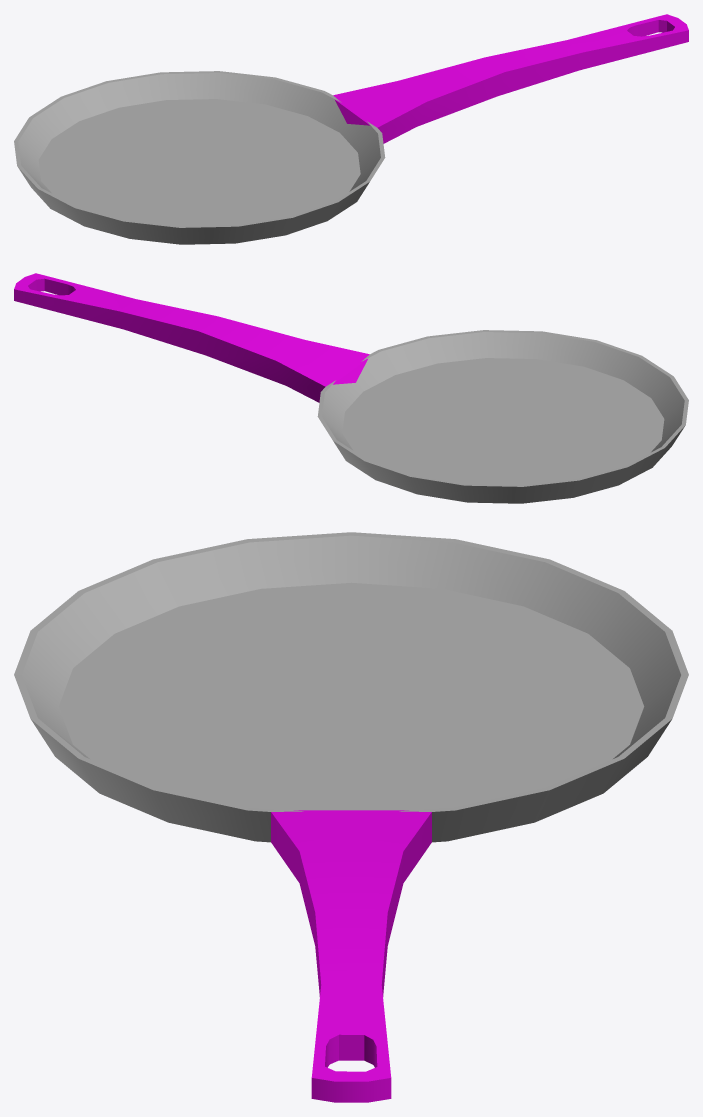
File: Pan_01.fbx
3 views of the same model, one above another, from view 1: azimuth 30°, elevation 25°; view 2: azimuth 150°, elevation 25°; view 3: azimuth 270°, elevation 25° (orthographic). The views are drawn at different scales.
Parts seen in each view (by area): view 1: Pan1; view 2: Pan1; view 3: Pan1.
Part boxes in pixels (box(x1,y1,x2,y2)): Pan1: box(14, 14, 688, 244); Pan1: box(14, 273, 688, 503); Pan1: box(14, 532, 688, 1102).
Bounding box in the file's own units: 846 × 44.63 × 424.
